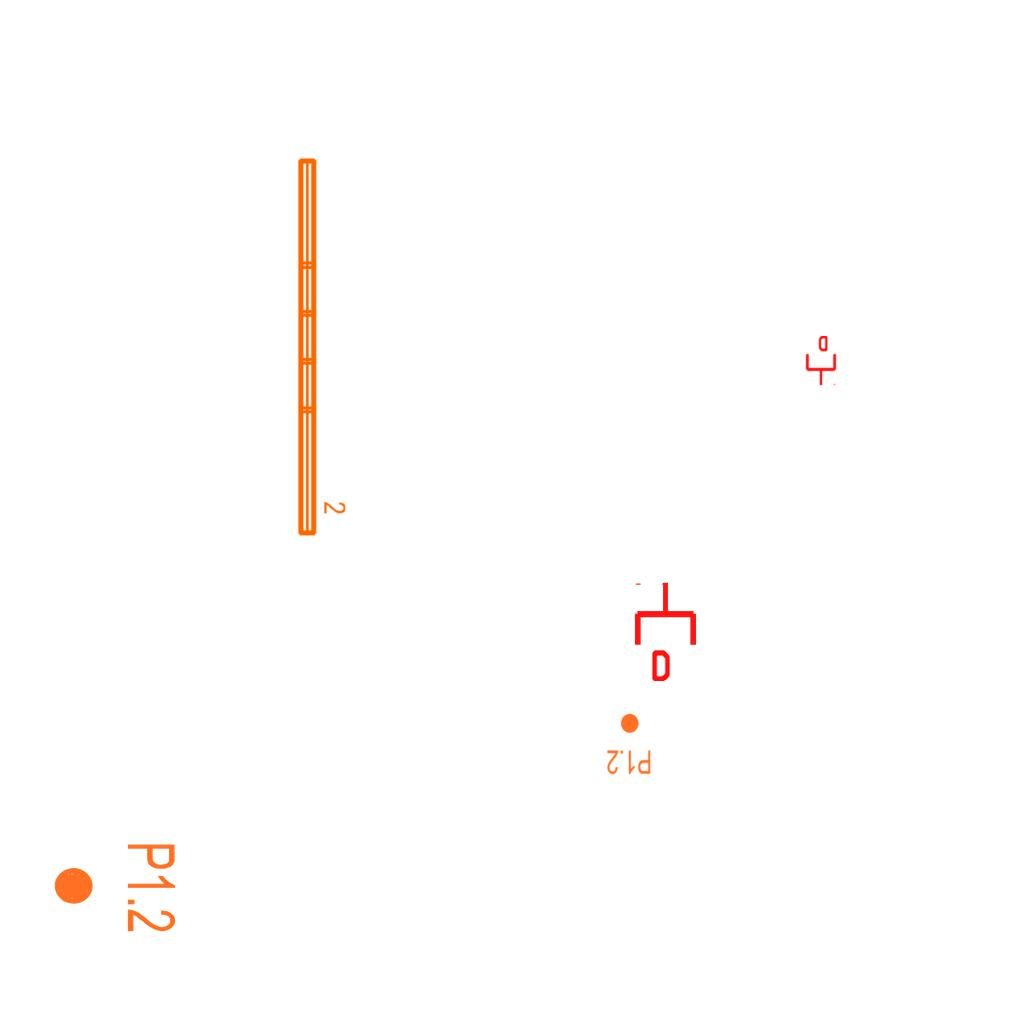Ambulanz_Pendelleuchte_LED: (292, 153, 348, 540)
Datenanschluss_einfach: (631, 581, 700, 681), (804, 336, 838, 386)
Downlight_LED_Einbauleuchten_Flur: (51, 841, 179, 934), (606, 712, 652, 776)
